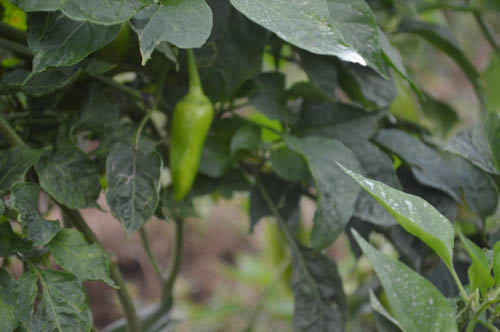ChiliPepper: (167, 100, 212, 197)
